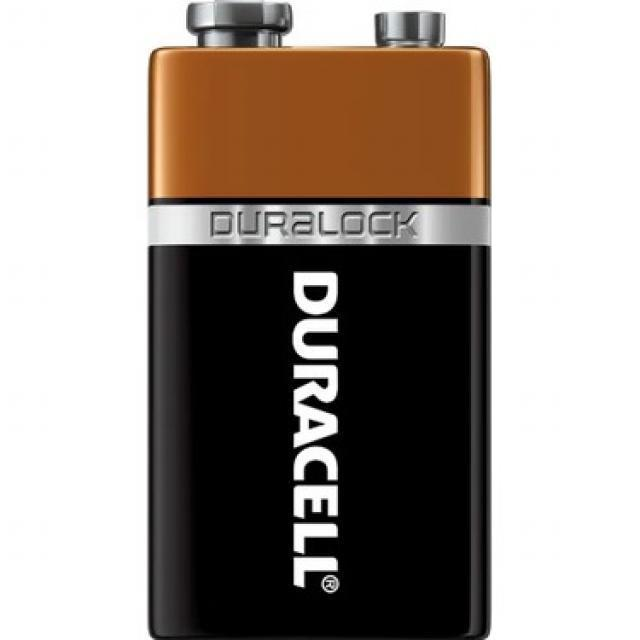Hazard: (146, 0, 492, 640)
